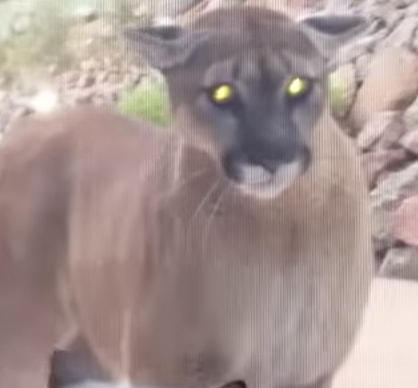Mountain Lion: (13, 5, 378, 388)
